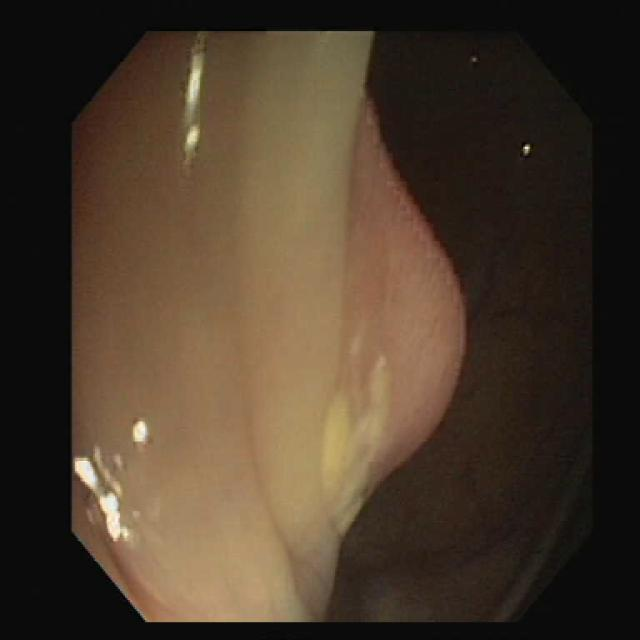tumor: (348, 100, 465, 491)
